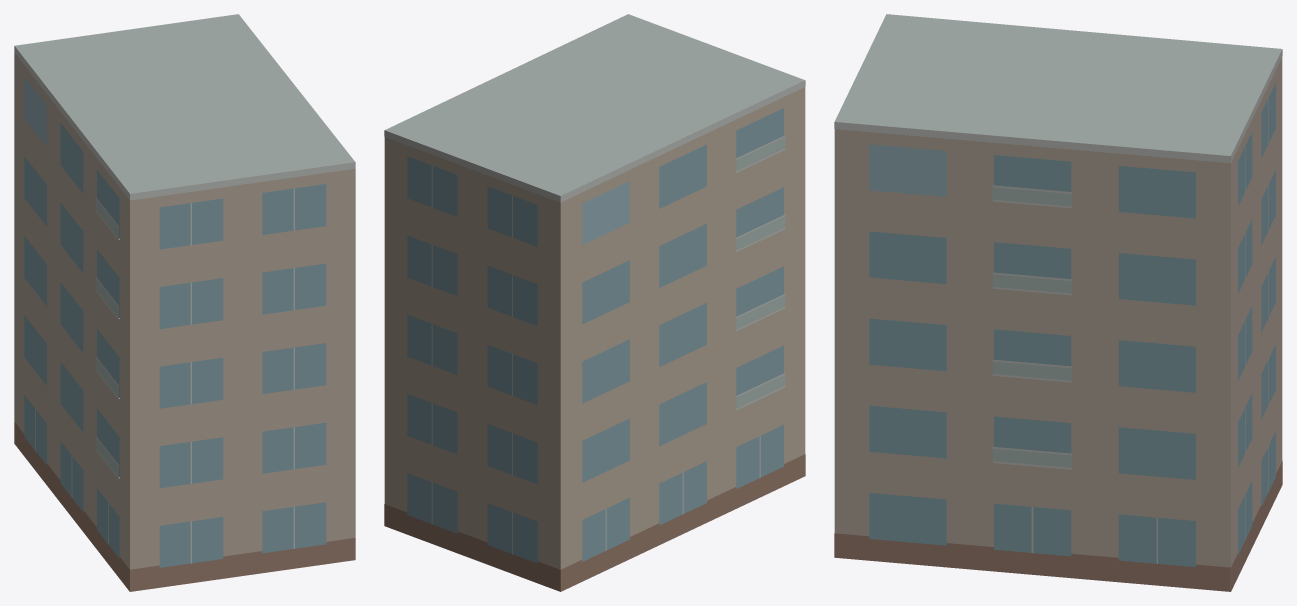
The model's file is survey-upis-32513212.glb.
The picture shows the model from 3 angles, left to right: view 1: azimuth 30°, elevation 25°; view 2: azimuth 150°, elevation 25°; view 3: azimuth 270°, elevation 25°; orthographic projection. The views are drawn at different scales.
Visible parts, largest first — view 1: survey-upis-32513212.tmp; view 2: survey-upis-32513212.tmp; view 3: survey-upis-32513212.tmp.
Part boxes in pixels (bbox=[...]): survey-upis-32513212.tmp: bbox=[14, 14, 355, 591]; survey-upis-32513212.tmp: bbox=[384, 14, 805, 591]; survey-upis-32513212.tmp: bbox=[834, 14, 1282, 591].
Size of the model in its own units: 10.36 by 14.8 by 13.8.
